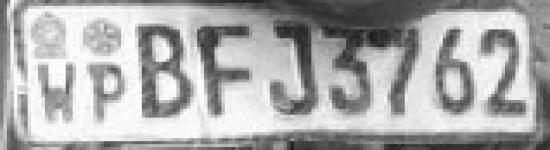2: (480, 21, 528, 120)
3: (322, 21, 372, 115)
6: (428, 23, 478, 118)
7: (372, 24, 424, 123)
B: (130, 18, 193, 122)
F: (195, 20, 256, 120)
J: (266, 16, 318, 119)
P: (79, 58, 129, 128)
W: (34, 59, 76, 126)
